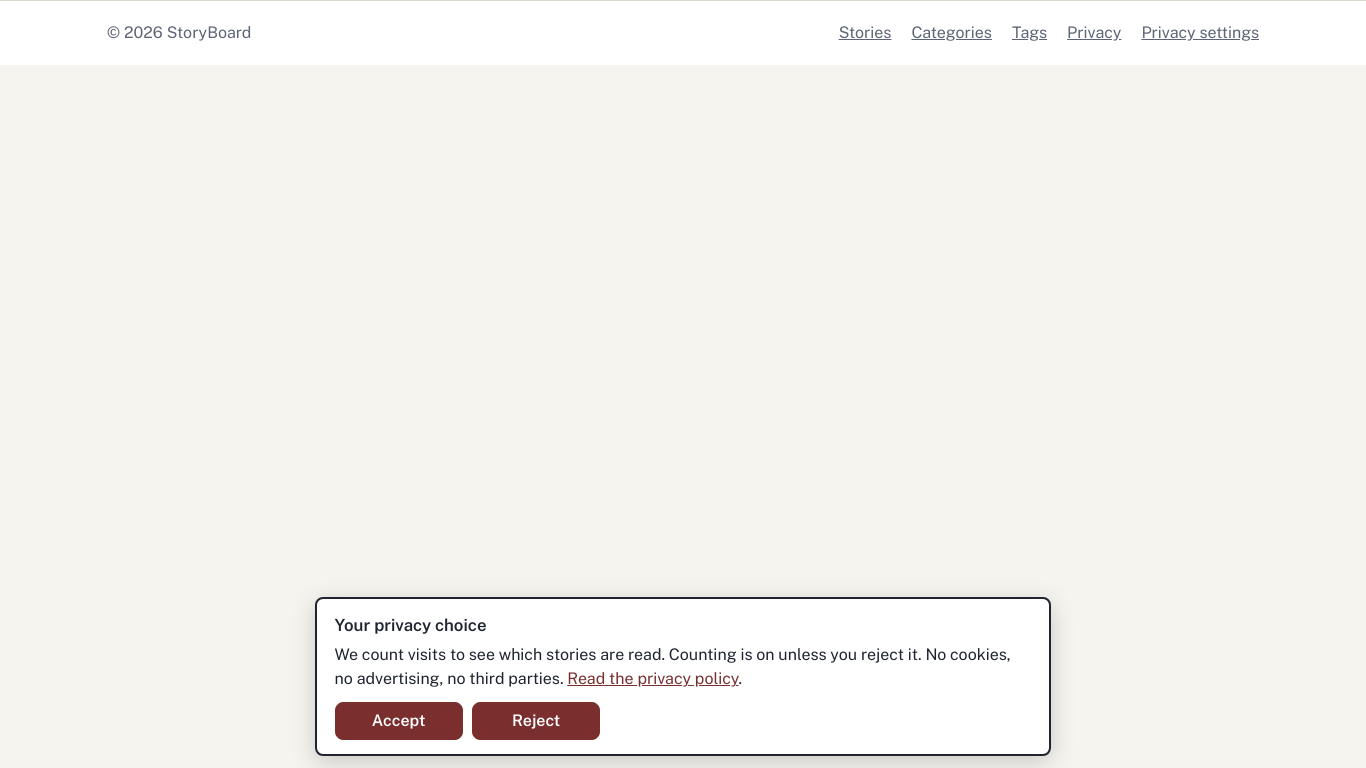
Test: consent banner › still works when the browser blocks storage
Click the button "Reject".
click(536, 721)  # box [472,702,600,740]
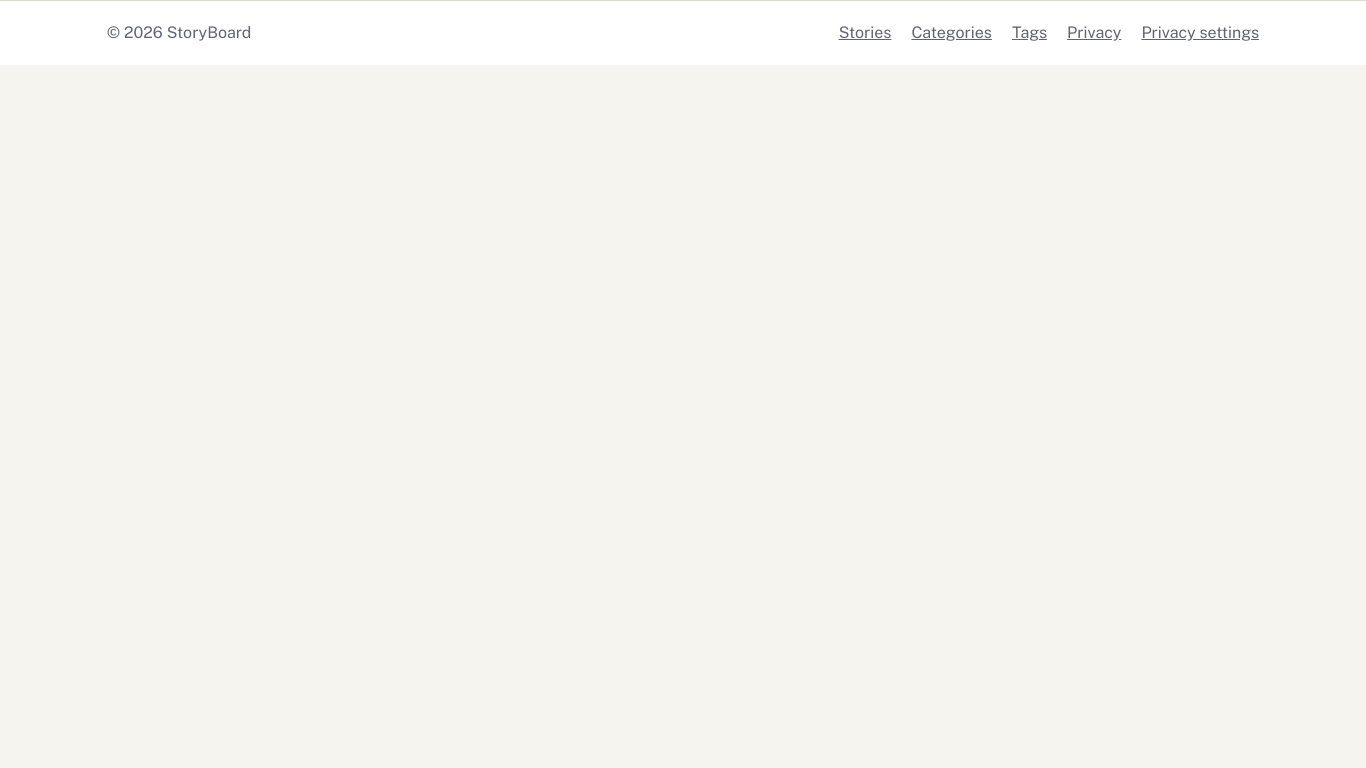
Expected: the heading "Your privacy choice" is gone
